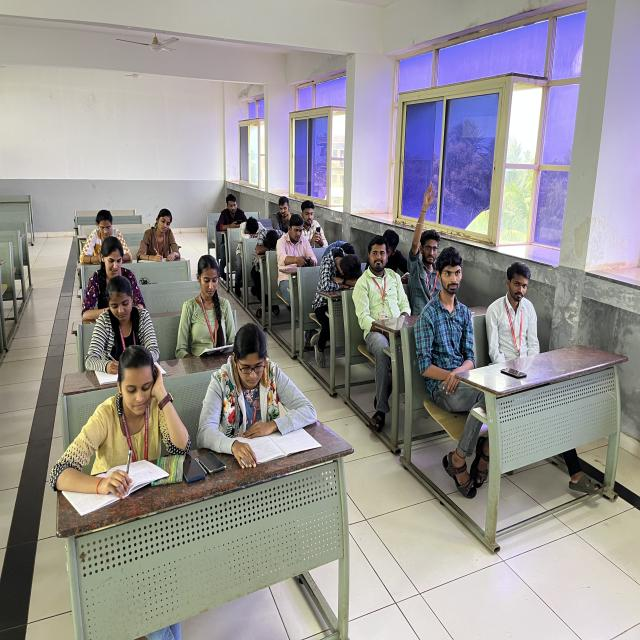Hand Rising: (408, 174, 448, 303)
Reading: (51, 344, 186, 502), (190, 318, 332, 460), (173, 248, 246, 368)
Sleeping: (305, 244, 364, 307), (251, 221, 286, 265), (235, 215, 265, 255)
Using Phone: (274, 214, 320, 277), (296, 195, 335, 253), (212, 190, 248, 232)
Writing: (83, 278, 165, 376), (134, 206, 185, 266)
